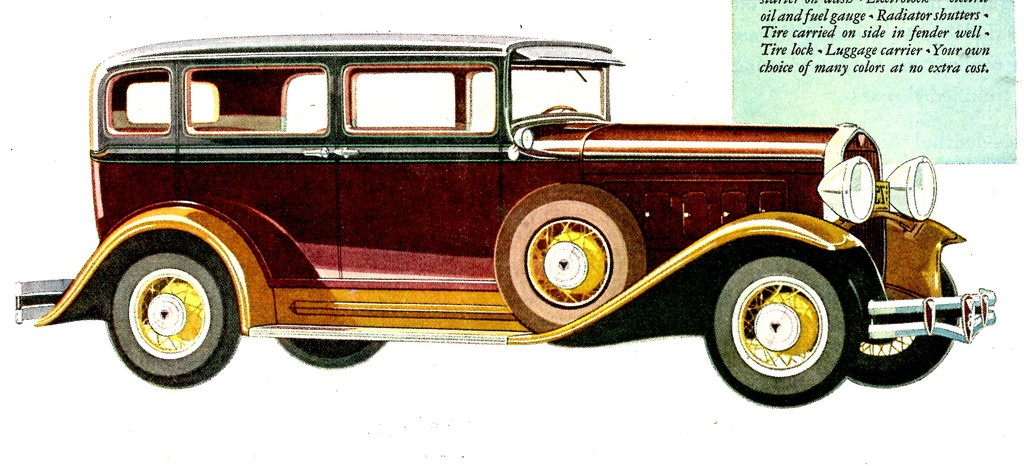Car: (12, 30, 995, 409)
